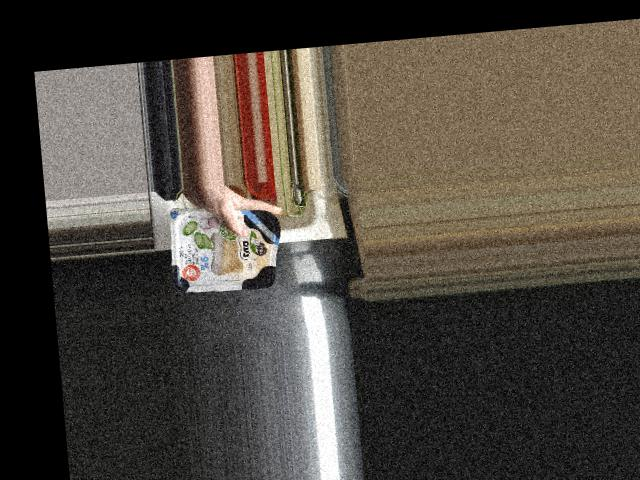cheese: (170, 200, 285, 294)
